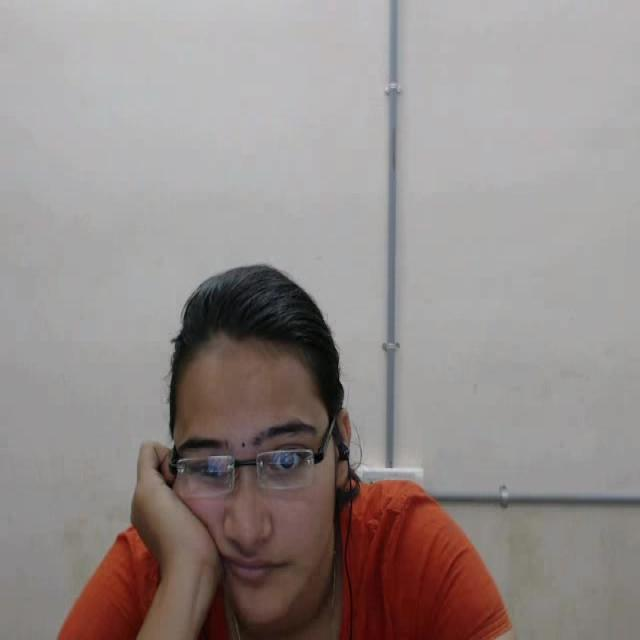Bored: (140, 246, 367, 640)
